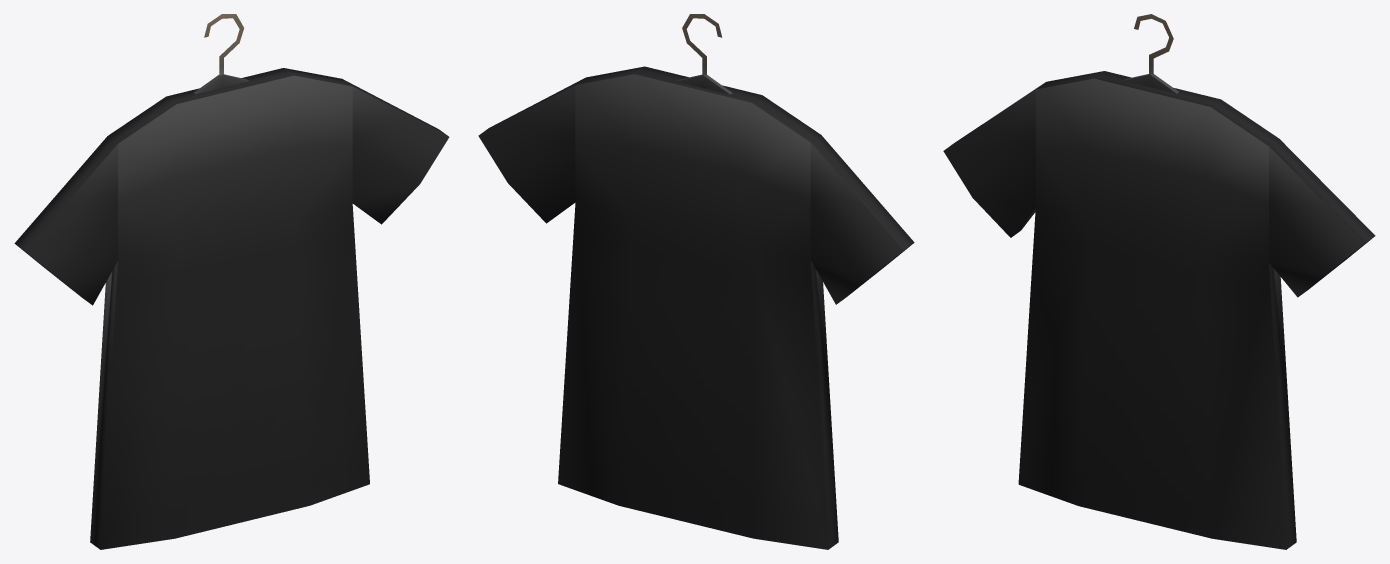
File: Hang_Tshirt_05.fbx
3 renders of one model, left to right at view 1: azimuth 30°, elevation 25°; view 2: azimuth 150°, elevation 25°; view 3: azimuth 330°, elevation 25°, orthographic.
Visible parts, largest first — view 1: Hang_Tshirt_05; view 2: Hang_Tshirt_05; view 3: Hang_Tshirt_05.
Part boxes in pixels (x1,y1,x2,y2): Hang_Tshirt_05: [14, 14, 449, 549]; Hang_Tshirt_05: [478, 14, 914, 549]; Hang_Tshirt_05: [943, 14, 1375, 549].
Bounding box in the file's own units: 0.2155 × 0.2426 × 0.0216.
